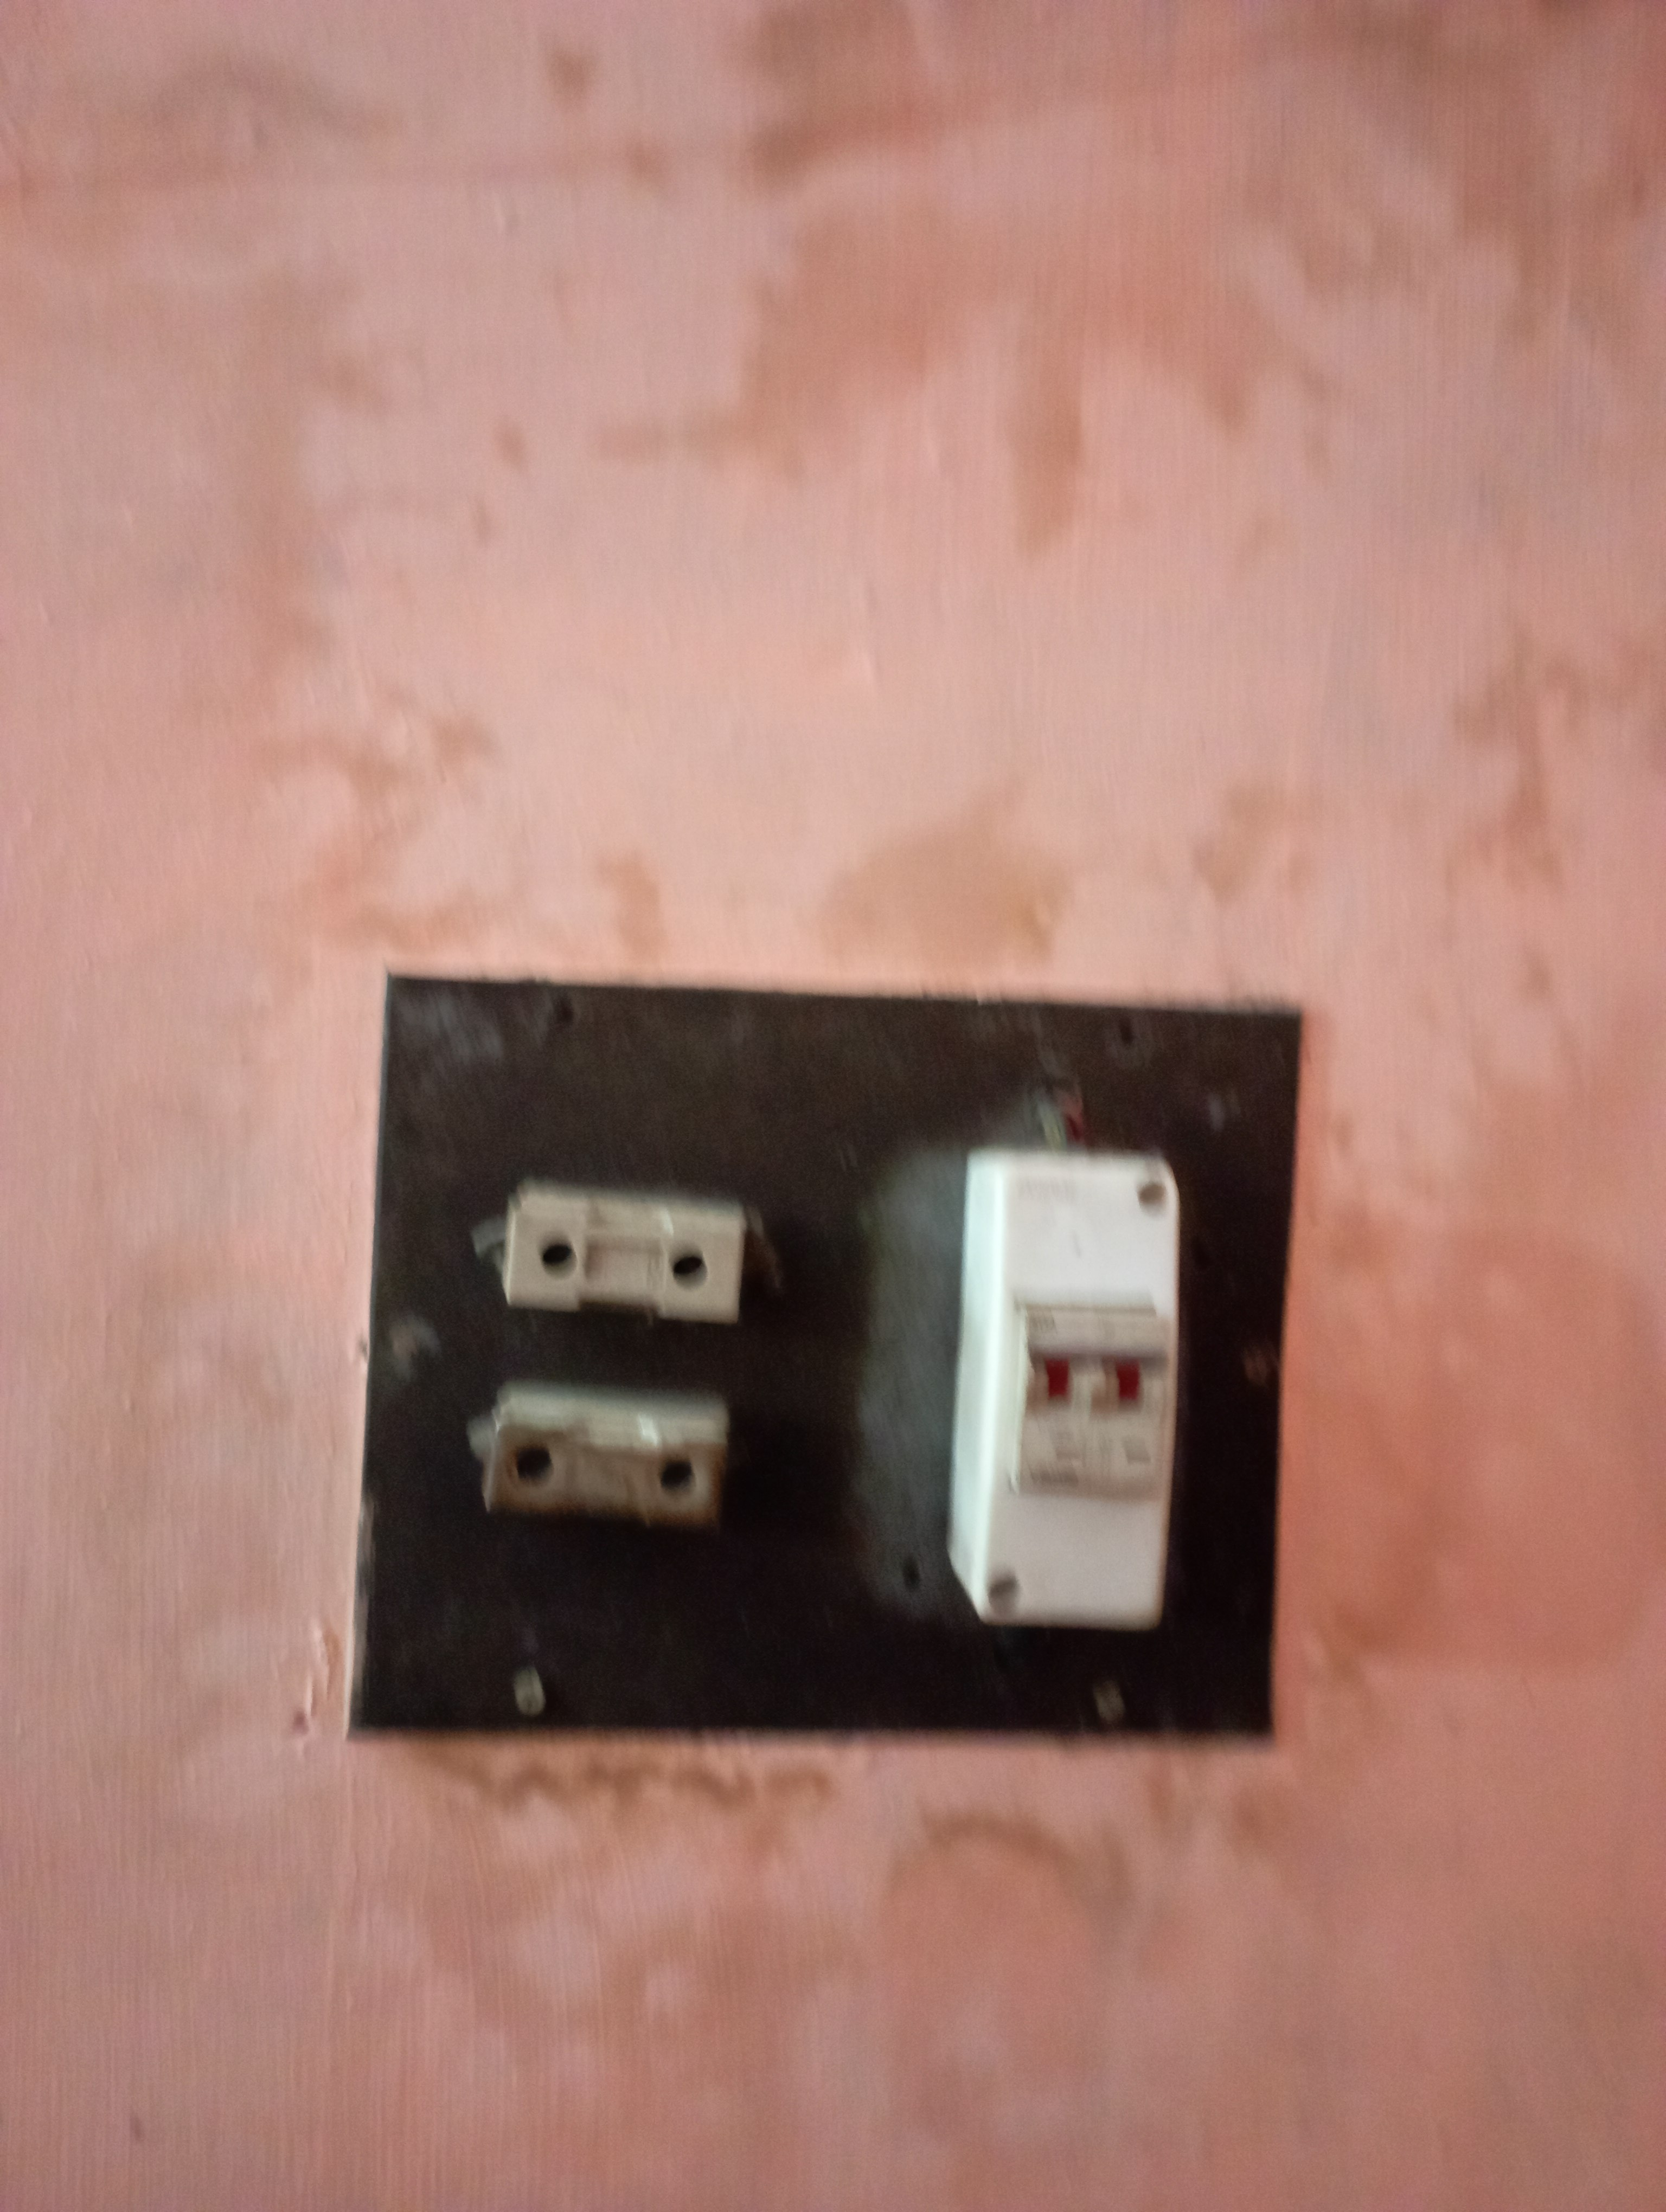ciruit_breaker: (952, 1151, 1185, 1684)
fuse: (476, 1159, 754, 1322), (459, 1371, 754, 1520)
